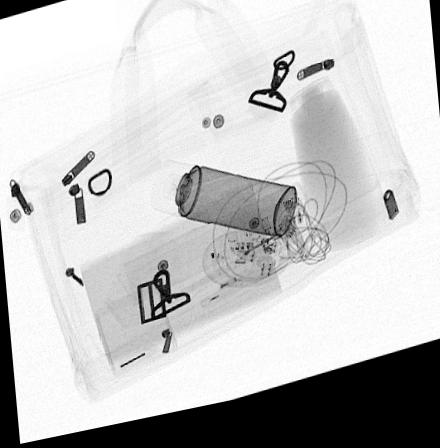Sprayer: (147, 164, 297, 250)
